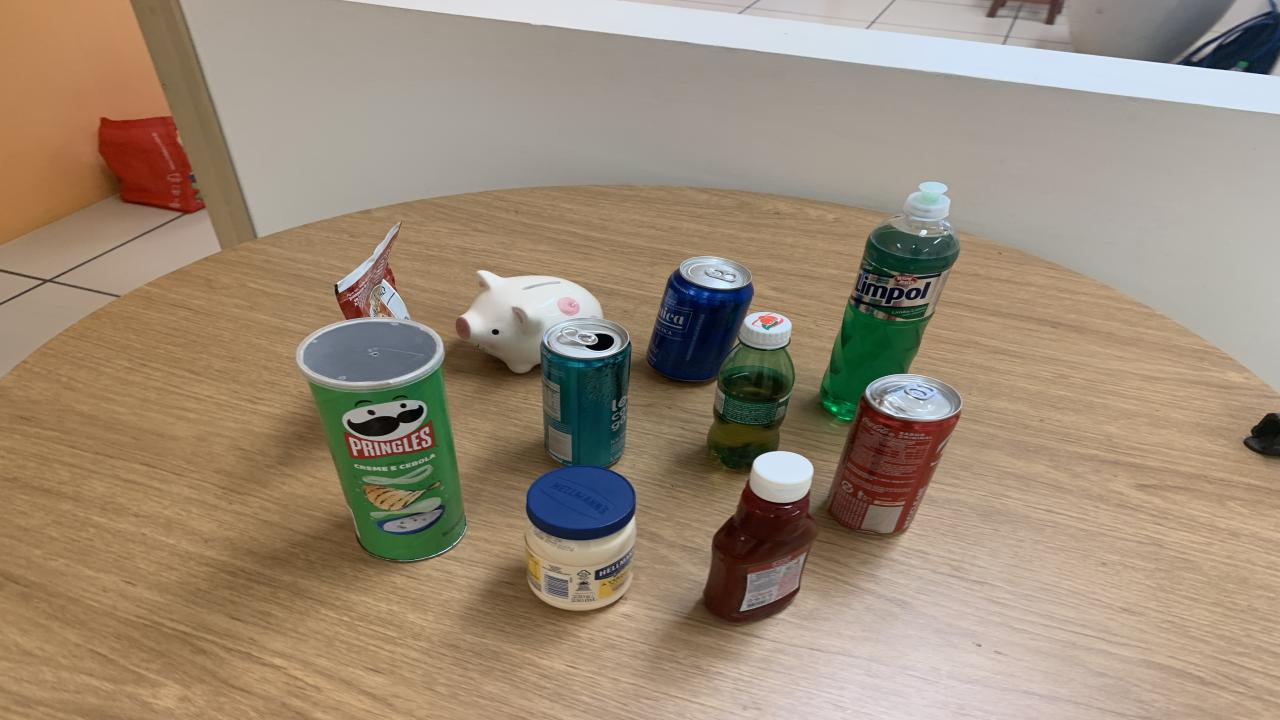Coke-Drinks: (825, 373, 962, 534)
Detergent-Cleanup_Items: (820, 182, 960, 420)
Guarana-Drinks: (708, 311, 795, 469)
Ketchup-Pantry_Items: (705, 452, 818, 622)
Mayonnaise-Pantry_Items: (525, 465, 635, 611)
Pig_Safe-Miscellaneous: (455, 270, 602, 373)
Pringles-Snacks: (295, 317, 465, 561)
Tea-Drinks: (540, 319, 630, 467)
Tomato_Sauce-Pantry_Items: (335, 223, 410, 319)
Tonic-Drinks: (648, 257, 752, 381)
